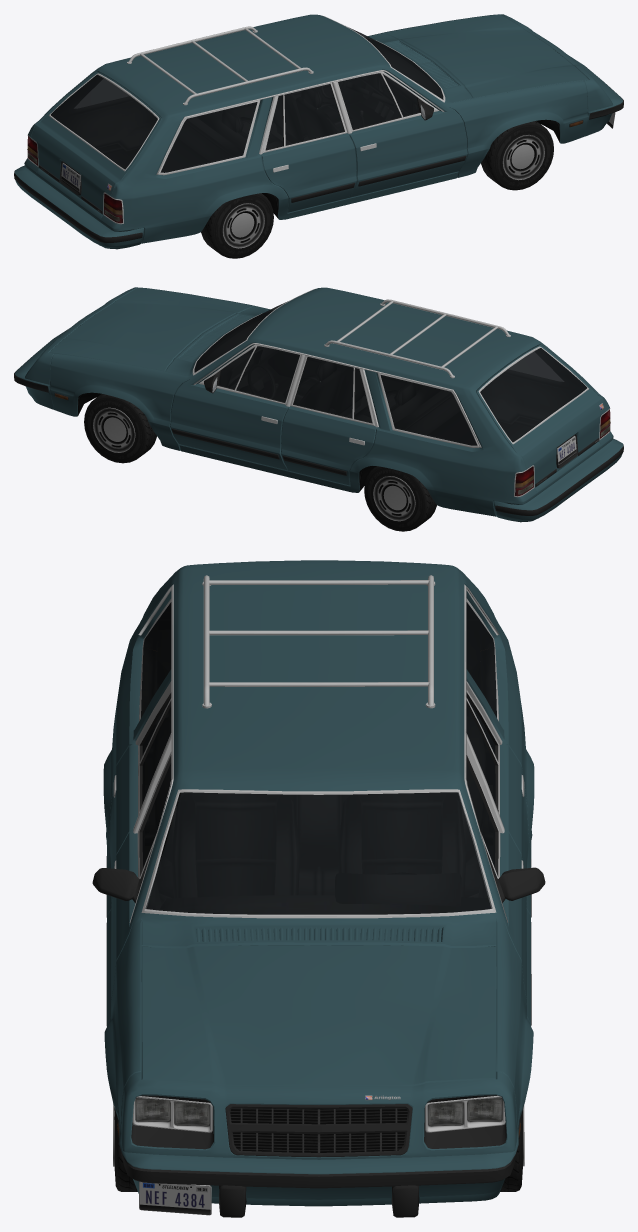
Rendered from fairheavensw84.glb.
3 views of the same model, one above another, from view 1: azimuth 30°, elevation 25°; view 2: azimuth 150°, elevation 25°; view 3: azimuth 270°, elevation 25° (orthographic). The views are drawn at different scales.
Visible parts, largest first — view 1: Fairheaven_SW80_body001_Fairheaven_LT80_Bodymat_0, Fairheaven_SW80_Interior001_UCB_Interior_Trim_0, Fairheaven_LT84_Hood001_Fairheaven_LT80_Bodymat_0, Fairheaven_SW80_Glass_Body001_UCB_Lights_and_Glass_Transpere, Fairheaven_LT80_Interior_Trim005_UCB_Interior_Trim_0, Fairheaven_SW80_Glass_Rear001_UCB_Lights_and_Glass_Transpere, Fairheaven_SW84_Trim_UCB_BOTTOM_GT_0, Fairheaven_LT80_Trunkdoor001_Fairheaven_LT80_Bodymat_0, Fairheaven_LT80_WheelStock_FR002_RB1c_Tire_1k_0, Fairheaven_LT80_WheelStock_RR002_RB1c_Tire_1k_0, Fairheaven_LT80_Glass_Passanger007_UCB_Lights_and_Glass_Tran, Fairheaven_LT84_Bumper_Rear001_Fairheaven_LT80_Bodymat_0 (+10 smaller); view 2: Fairheaven_SW80_body001_Fairheaven_LT80_Bodymat_0, Fairheaven_SW80_Interior001_UCB_Interior_Trim_0, Fairheaven_LT84_Hood001_Fairheaven_LT80_Bodymat_0, Fairheaven_SW80_Glass_Body001_UCB_Lights_and_Glass_Transpere, Fairheaven_LT80_Interior_Trim005_UCB_Interior_Trim_0, Fairheaven_SW80_Glass_Rear001_UCB_Lights_and_Glass_Transpere, Fairheaven_SW84_Trim_UCB_BOTTOM_GT_0, Fairheaven_LT80_Trunkdoor001_Fairheaven_LT80_Bodymat_0, Fairheaven_LT80_WheelStock_FL002_RB1c_Tire_1k_0, Fairheaven_LT80_WheelStock_RL002_RB1c_Tire_1k_0, Fairheaven_LT80_Glass_Driver007_UCB_Lights_and_Glass_Transpe, Fairheaven_LT84_Bumper_Rear001_Fairheaven_LT80_Bodymat_0 (+11 smaller); view 3: Fairheaven_SW80_body001_Fairheaven_LT80_Bodymat_0, Fairheaven_LT84_Hood001_Fairheaven_LT80_Bodymat_0, Fairheaven_LT80_Interior_Trim005_UCB_Interior_Trim_0, Fairheaven_LT80_Windshield006_UCB_Lights_and_Glass_Transpere, Fairheaven_LT84_Front_Plate_Inner001_UCB_BOTTOM_GT_0, Fairheaven_SW84_Trim_UCB_BOTTOM_GT_0, Fairheaven_LT84_Front_Plate001_Fairheaven_LT80_Bodymat_0, Fairheaven_LT84_Bumper_front001_Fairheaven_LT80_Bodymat_0, Fairheaven_LT84_Bumper_front_Inner001_UCB_BOTTOM_GT_0, Fairheaven_SW80_Glass_Body001_UCB_Lights_and_Glass_Transpere, Fairheaven_SW80_Interior001_UCB_Interior_Trim_0, Fairheaven_SW80_Roofrack001_UCB_BOTTOM_GT_0 (+5 smaller).
Part boxes in pixels (x1,y1,x2,y2): Fairheaven_SW80_body001_Fairheaven_LT80_Bodymat_0: (24, 14, 587, 243); Fairheaven_SW80_Interior001_UCB_Interior_Trim_0: (51, 38, 442, 172); Fairheaven_LT84_Hood001_Fairheaven_LT80_Bodymat_0: (384, 15, 588, 98); Fairheaven_SW80_Glass_Body001_UCB_Lights_and_Glass_Transpere: (75, 79, 344, 172); Fairheaven_LT80_Interior_Trim005_UCB_Interior_Trim_0: (197, 42, 443, 150); Fairheaven_SW80_Glass_Rear001_UCB_Lights_and_Glass_Transpere: (50, 74, 157, 169); Fairheaven_SW84_Trim_UCB_BOTTOM_GT_0: (27, 15, 466, 224); Fairheaven_LT80_Trunkdoor001_Fairheaven_LT80_Bodymat_0: (31, 71, 161, 214); Fairheaven_LT80_WheelStock_FR002_RB1c_Tire_1k_0: (481, 121, 553, 190); Fairheaven_LT80_WheelStock_RR002_RB1c_Tire_1k_0: (201, 193, 273, 258); Fairheaven_LT80_Glass_Passanger007_UCB_Lights_and_Glass_Tran: (338, 73, 419, 129); Fairheaven_LT84_Bumper_Rear001_Fairheaven_LT80_Bodymat_0: (14, 165, 143, 249); Fairheaven_SW80_body001_Fairheaven_LT80_Bodymat_0: (50, 287, 613, 516); Fairheaven_SW80_Interior001_UCB_Interior_Trim_0: (197, 311, 586, 445); Fairheaven_LT84_Hood001_Fairheaven_LT80_Bodymat_0: (49, 288, 253, 371); Fairheaven_SW80_Glass_Body001_UCB_Lights_and_Glass_Transpere: (293, 352, 563, 445); Fairheaven_LT80_Interior_Trim005_UCB_Interior_Trim_0: (195, 318, 440, 423); Fairheaven_SW80_Glass_Rear001_UCB_Lights_and_Glass_Transpere: (480, 348, 587, 442); Fairheaven_SW84_Trim_UCB_BOTTOM_GT_0: (171, 288, 610, 497); Fairheaven_LT80_Trunkdoor001_Fairheaven_LT80_Bodymat_0: (476, 345, 606, 487); Fairheaven_LT80_WheelStock_FL002_RB1c_Tire_1k_0: (84, 394, 156, 463); Fairheaven_LT80_WheelStock_RL002_RB1c_Tire_1k_0: (364, 466, 436, 531); Fairheaven_LT80_Glass_Driver007_UCB_Lights_and_Glass_Transpe: (218, 346, 299, 402); Fairheaven_LT84_Bumper_Rear001_Fairheaven_LT80_Bodymat_0: (494, 439, 623, 522); Fairheaven_SW80_body001_Fairheaven_LT80_Bodymat_0: (103, 560, 534, 1128); Fairheaven_LT84_Hood001_Fairheaven_LT80_Bodymat_0: (141, 945, 496, 1086); Fairheaven_LT80_Interior_Trim005_UCB_Interior_Trim_0: (145, 716, 492, 914); Fairheaven_LT80_Windshield006_UCB_Lights_and_Glass_Transpere: (145, 792, 492, 914); Fairheaven_LT84_Front_Plate_Inner001_UCB_BOTTOM_GT_0: (131, 1095, 506, 1157); Fairheaven_SW84_Trim_UCB_BOTTOM_GT_0: (92, 584, 545, 1025); Fairheaven_LT84_Front_Plate001_Fairheaven_LT80_Bodymat_0: (121, 1071, 516, 1159); Fairheaven_LT84_Bumper_front001_Fairheaven_LT80_Bodymat_0: (119, 1127, 518, 1206); Fairheaven_LT84_Bumper_front_Inner001_UCB_BOTTOM_GT_0: (119, 1145, 518, 1217); Fairheaven_SW80_Glass_Body001_UCB_Lights_and_Glass_Transpere: (141, 602, 496, 804); Fairheaven_SW80_Interior001_UCB_Interior_Trim_0: (141, 620, 496, 910); Fairheaven_SW80_Roofrack001_UCB_BOTTOM_GT_0: (202, 575, 435, 708).
Bounding box in the file's own units: 5.03 × 1.4 × 1.86.
8 materials, 7 textured.
